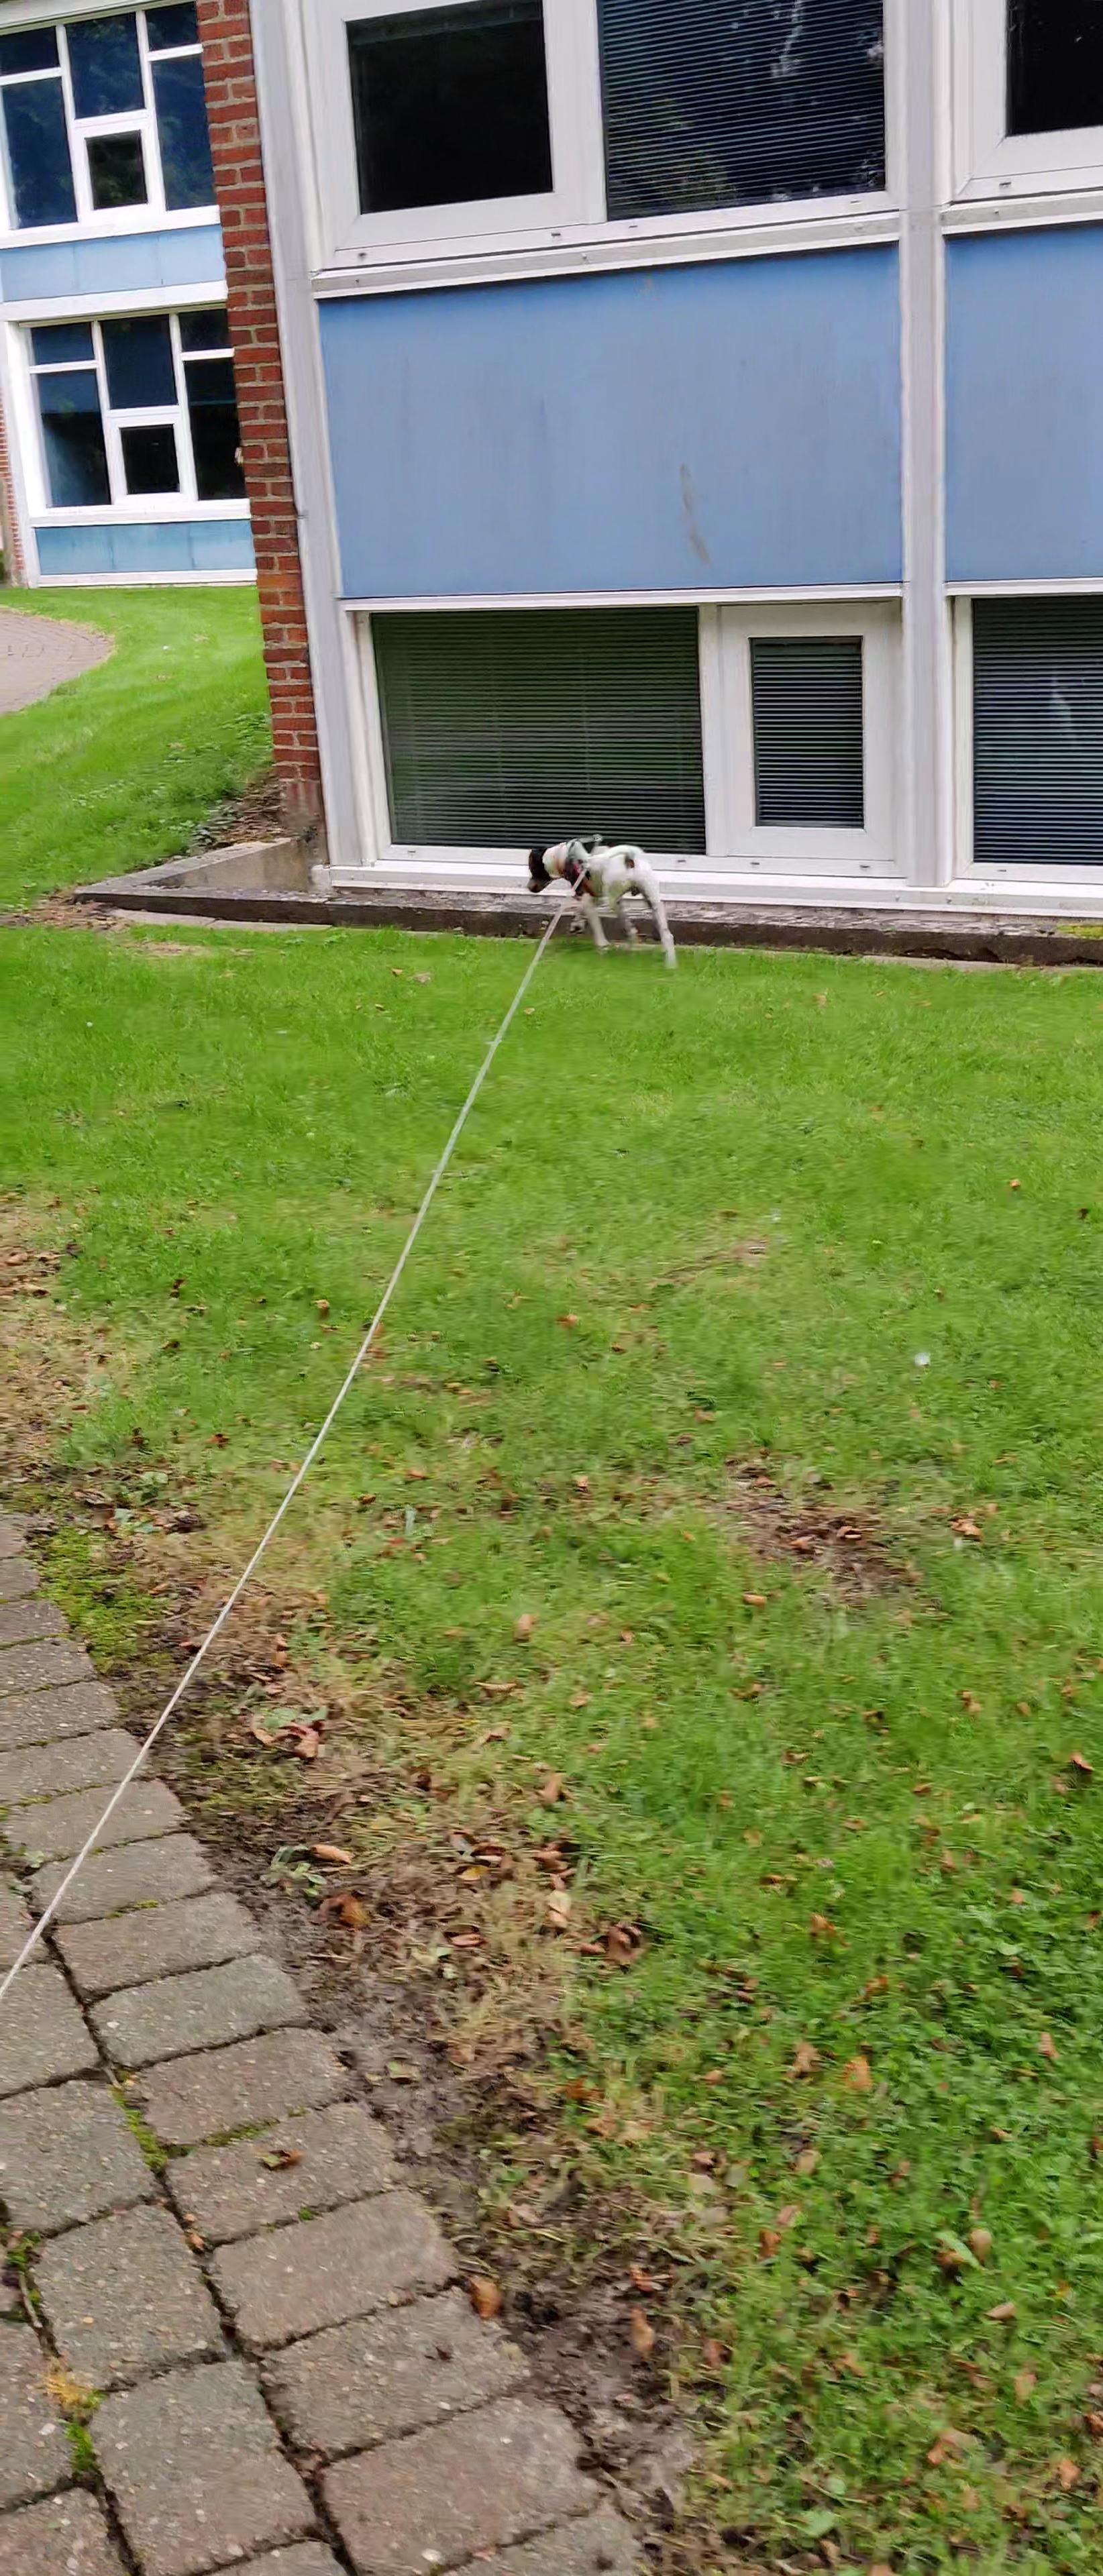Dog: (518, 825, 681, 973)
